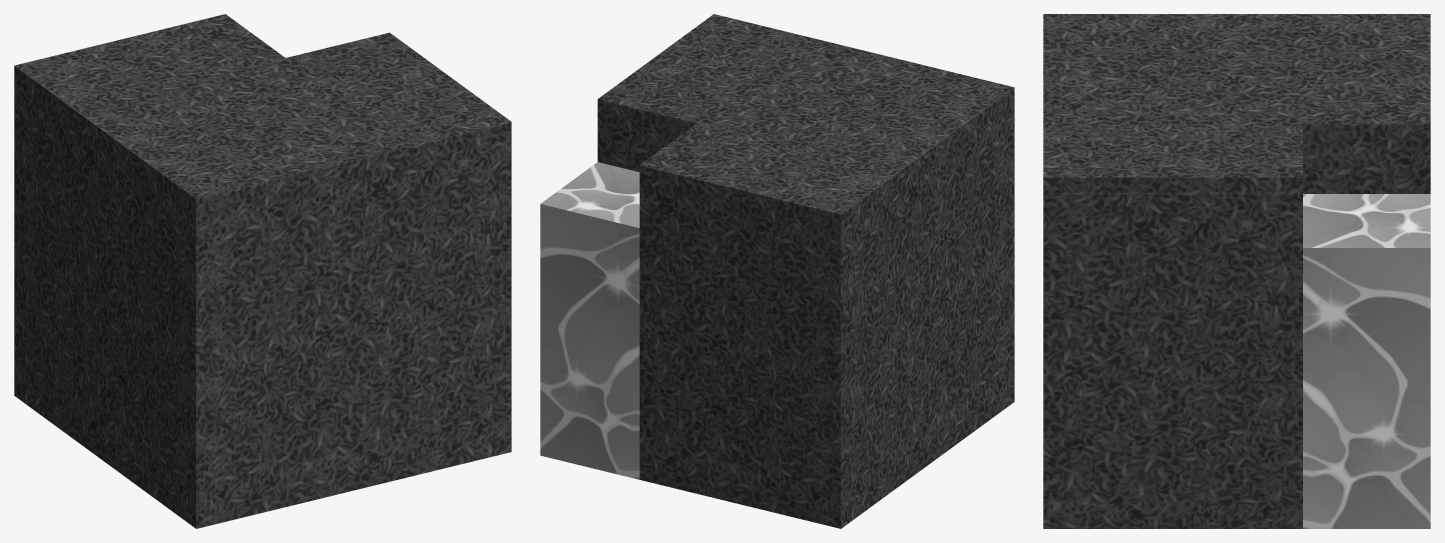
Rendered from GrassWaterCorner.fbx.
The picture shows the model from 3 angles, left to right: view 1: azimuth 30°, elevation 25°; view 2: azimuth 150°, elevation 25°; view 3: azimuth 270°, elevation 25°; orthographic projection. The views are drawn at different scales.
Visible parts, largest first — view 1: Cube.035; view 2: Cube.035; view 3: Cube.035.
Part boxes in pixels (x1,y1,x2,y2): Cube.035: (14,14,511,528); Cube.035: (540,14,1014,528); Cube.035: (1043,14,1430,528).
Bounding box in the file's own units: 100 × 100 × 100.
